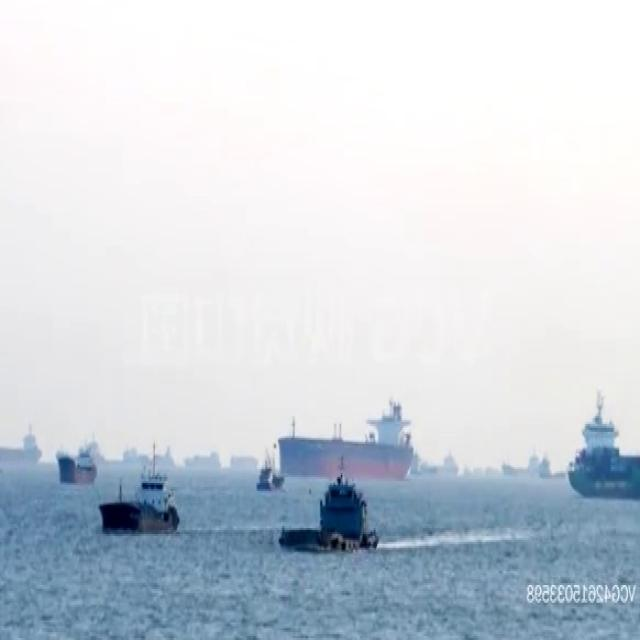cargoship: (278, 395, 417, 479), (279, 460, 379, 558), (569, 392, 640, 500), (98, 448, 179, 540), (0, 424, 44, 471), (55, 441, 100, 486), (103, 433, 143, 468), (419, 448, 460, 478), (504, 446, 542, 474), (184, 448, 223, 474), (258, 455, 284, 492), (149, 438, 174, 473), (538, 453, 568, 479), (229, 449, 260, 469)
